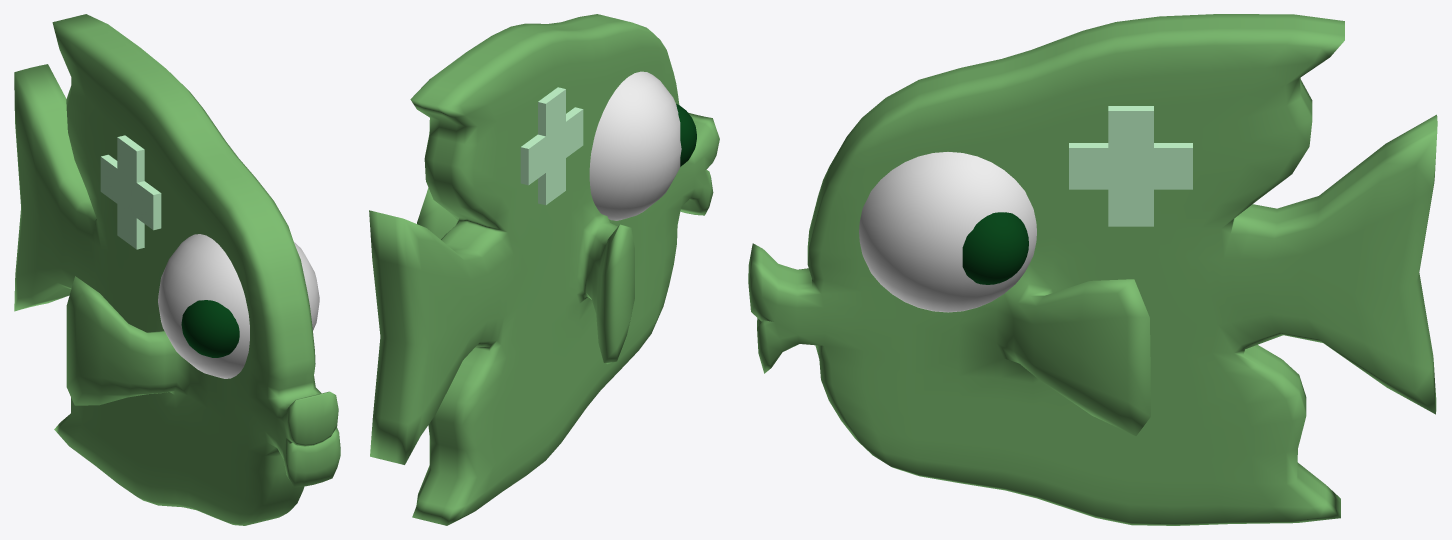
File: Fish_Final.fbx
3 views of the same model, side by side, from view 1: azimuth 30°, elevation 25°; view 2: azimuth 150°, elevation 25°; view 3: azimuth 270°, elevation 25° (orthographic). The views are drawn at different scales.
Visible parts, largest first — view 1: Fish_body, Fish_eyeball, pCube1, pupil_2; view 2: Fish_body, Fish_eyeball, pCube1, pupil_2; view 3: Fish_body, Fish_eyeball, pCube1, Pupil_1.
Boxes of the visible parts, x1,y1,x2,y2 form: Fish_body: [14, 14, 340, 525]; Fish_eyeball: [158, 234, 319, 378]; pCube1: [100, 135, 161, 249]; pupil_2: [181, 300, 239, 357]; Fish_body: [369, 14, 719, 525]; Fish_eyeball: [589, 71, 681, 220]; pCube1: [520, 87, 583, 205]; pupil_2: [676, 104, 696, 166]; Fish_body: [748, 14, 1437, 525]; Fish_eyeball: [859, 152, 1036, 312]; pCube1: [1069, 106, 1192, 226]; Pupil_1: [962, 212, 1028, 284].
Size of the model in its own units: 11.88 by 24.89 by 31.56.
